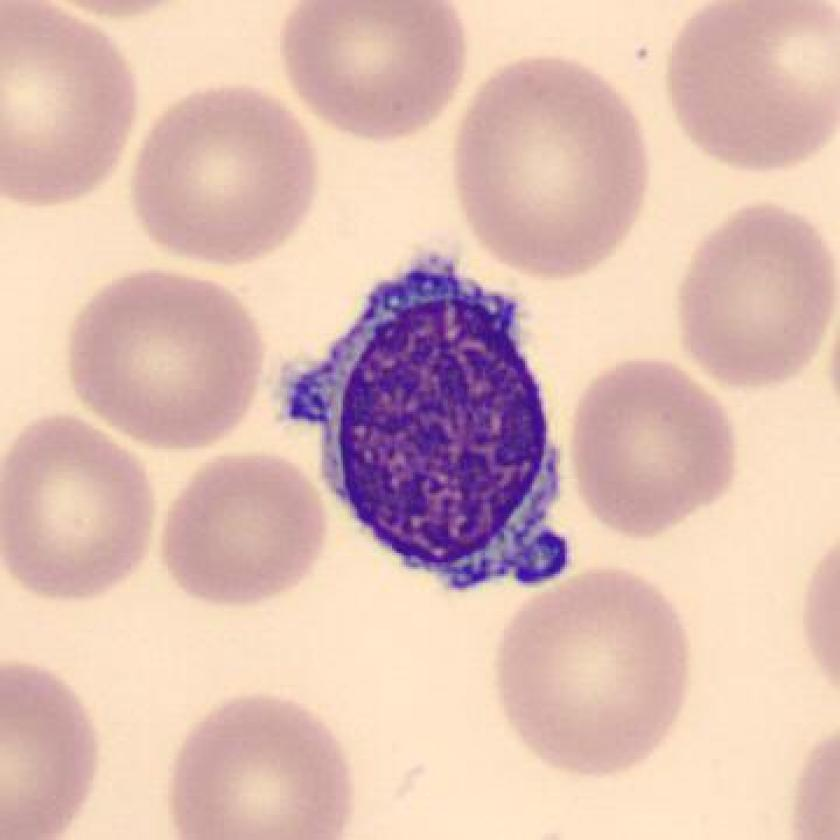lymphocyte: (267, 240, 589, 601), (750, 454, 752, 457)
